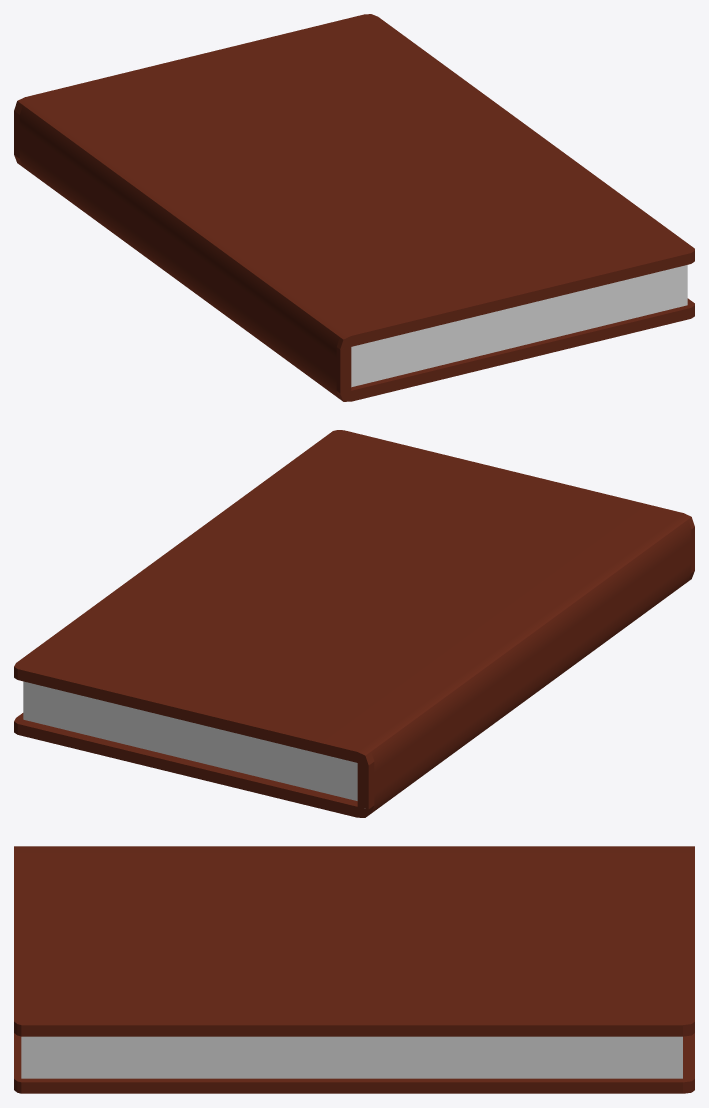
The model's file is Book.fbx.
3 views of the same model, one above another, from view 1: azimuth 30°, elevation 25°; view 2: azimuth 150°, elevation 25°; view 3: azimuth 270°, elevation 25° (orthographic). The views are drawn at different scales.
Parts seen in each view (by area): view 1: pCube1; view 2: pCube1; view 3: pCube1.
Boxes of the visible parts, x1,y1,x2,y2 form: pCube1: (14,14,694,401); pCube1: (14,430,694,817); pCube1: (14,846,694,1093).
Size of the model in its own units: 0.0501 by 0.00879 by 0.079.
